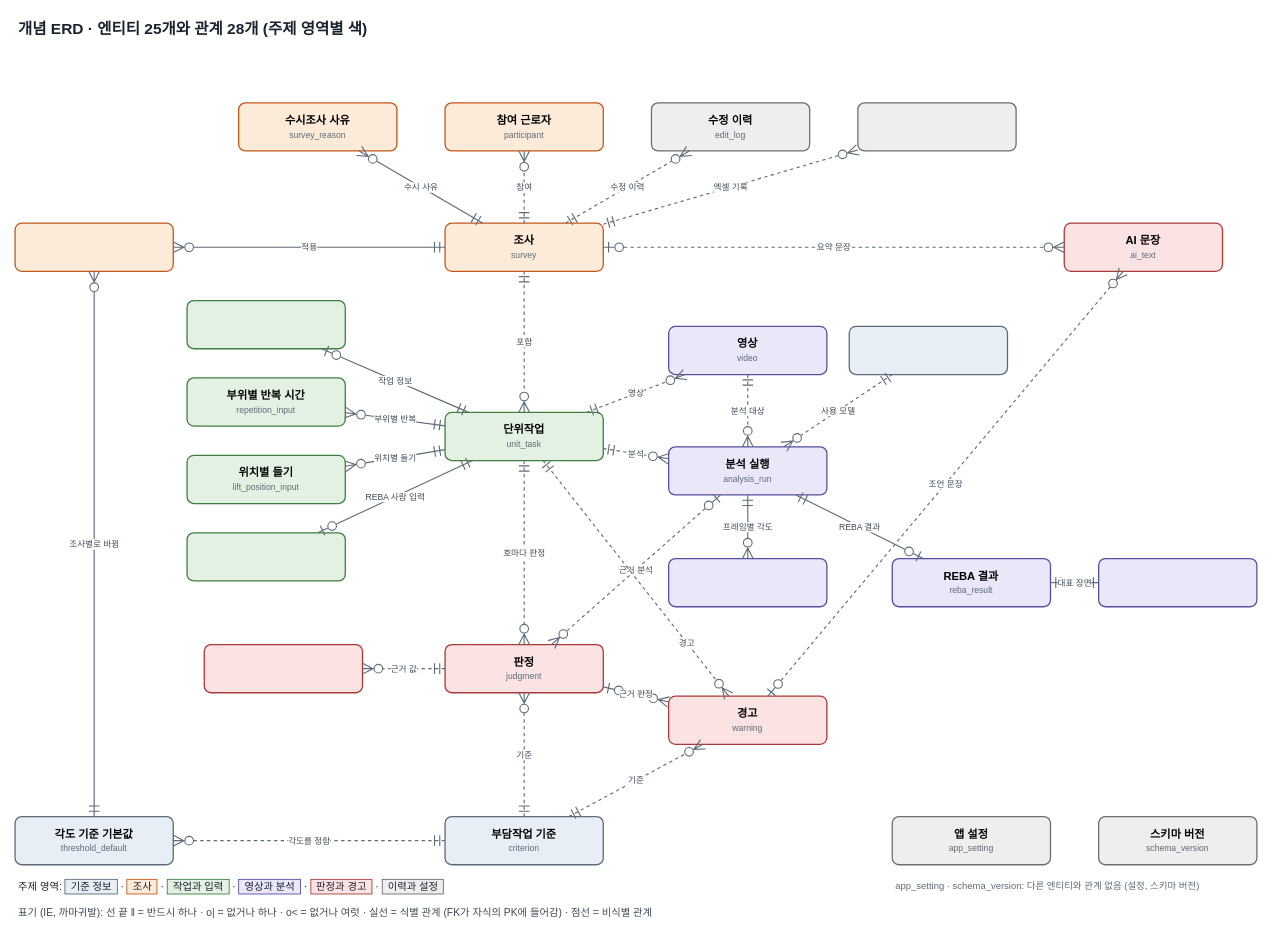
This 1273x936 diagram has some shape labels left out. Each missing label, with the centre of its shape:
REBA 사람 입력 reba_input: the point at 266,556
관절 모델 pose_model: the point at 928,350
대표 장면 이미지 key_frame_image: the point at 1177,582
엑셀 내보내기 기록 export_log: the point at 936,126
작업 정보 입력 task_input: the point at 266,324
조사별 각도 기준 변경 survey_threshold: the point at 94,247
판정 근거 judgment_basis: the point at 283,668
프레임별 각도 frame_angle: the point at 747,582
